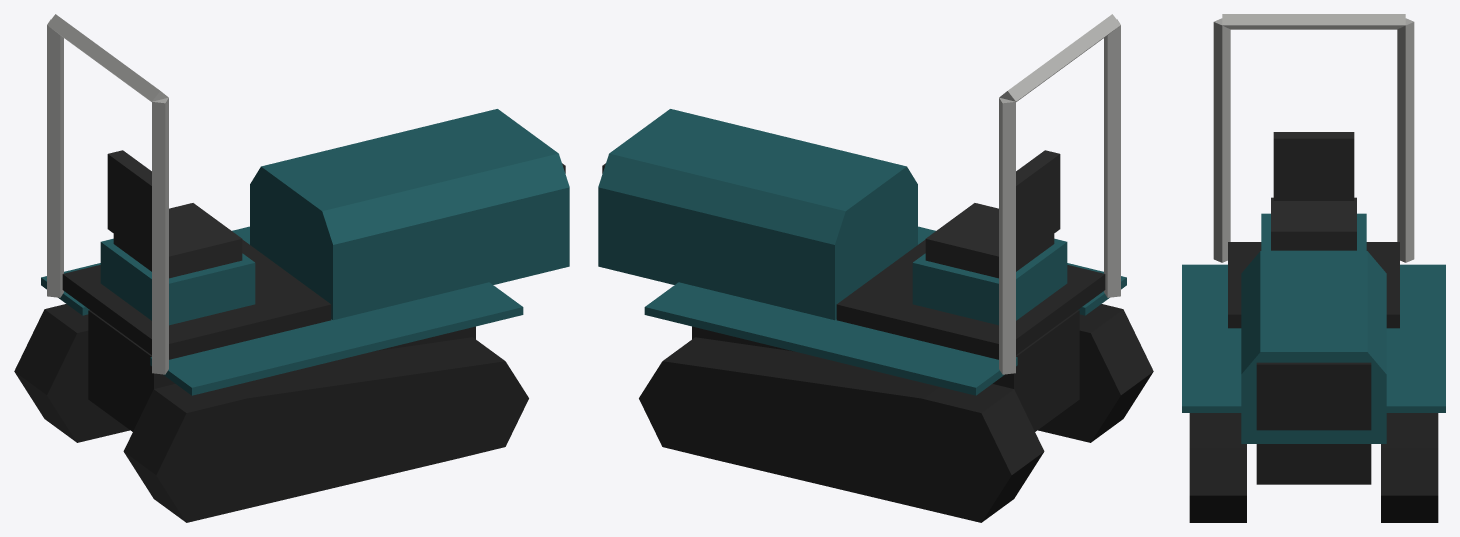
Rendered from SM_Prop_farm_crawler_0_LOD2.glb.
3 views of the same model, side by side, from view 1: azimuth 30°, elevation 25°; view 2: azimuth 150°, elevation 25°; view 3: azimuth 270°, elevation 25° (orthographic). The views are drawn at different scales.
Visible parts, largest first — view 1: SM_Prop_farm_crawler_0_LOD2; view 2: SM_Prop_farm_crawler_0_LOD2; view 3: SM_Prop_farm_crawler_0_LOD2.
Part boxes in pixels (left/top/right/bottom): SM_Prop_farm_crawler_0_LOD2: left=14, top=14, right=569, bottom=522; SM_Prop_farm_crawler_0_LOD2: left=598, top=14, right=1153, bottom=522; SM_Prop_farm_crawler_0_LOD2: left=1182, top=14, right=1445, bottom=522.
Bounding box in the file's own units: 2.36 × 2.13 × 1.38.
